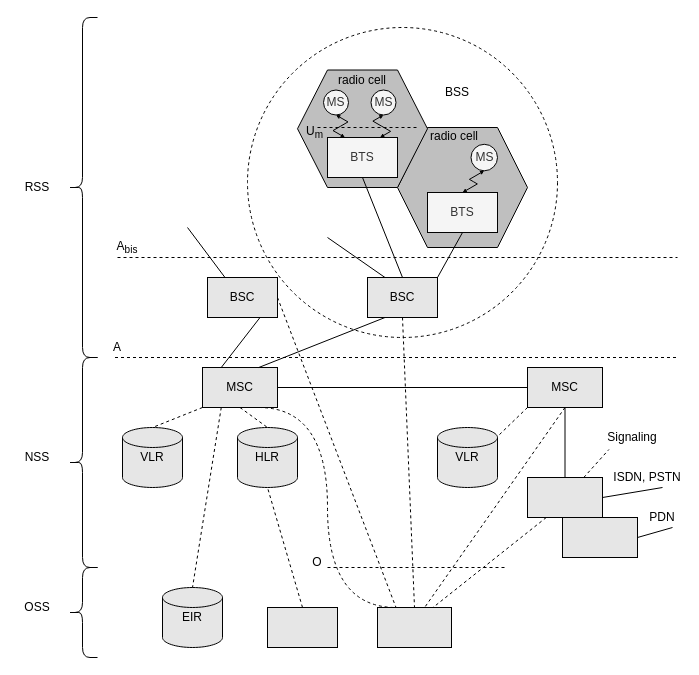
Some shapes in this 699 by 675 pixel diagram are drawn without their labels. The box of each missing label's shape, as (x1, y1, x2, y2) in pixels:
AuC: (266, 606, 338, 648)
GMSC: (526, 476, 602, 518)
IWF: (562, 516, 638, 558)
OMC: (376, 606, 452, 648)
